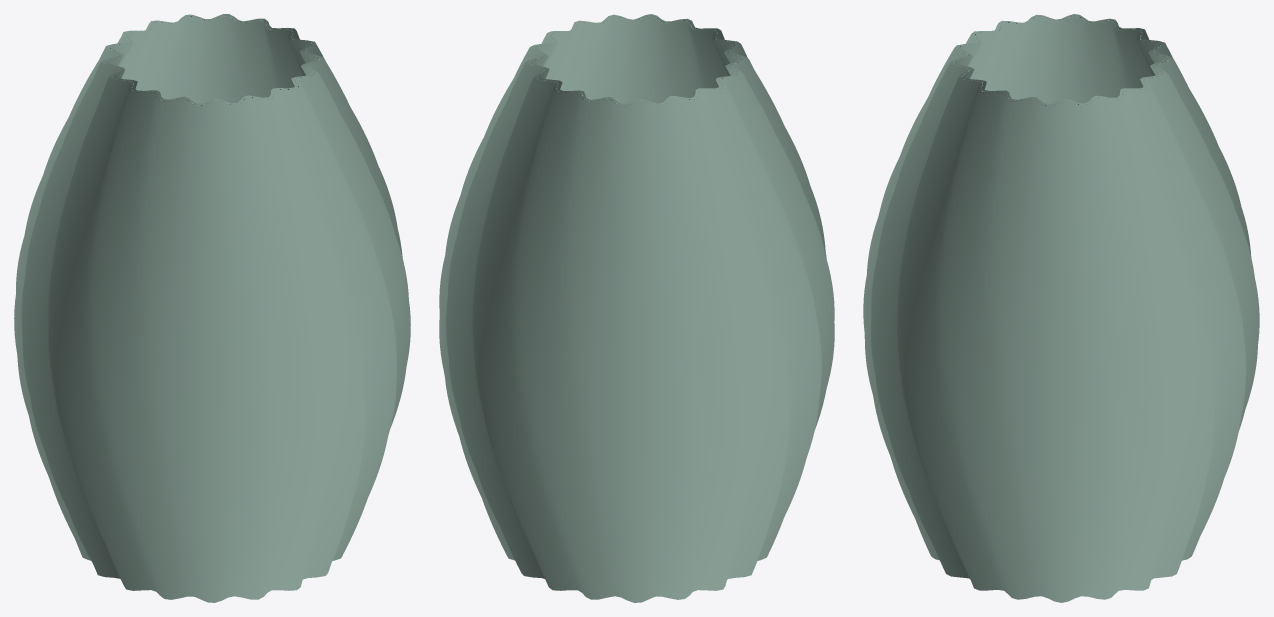
The picture shows the model from 3 angles, left to right: view 1: azimuth 30°, elevation 25°; view 2: azimuth 150°, elevation 25°; view 3: azimuth 270°, elevation 25°; orthographic projection.
Size of the model in its own units: 0.1765 by 0.24 by 0.1773.
